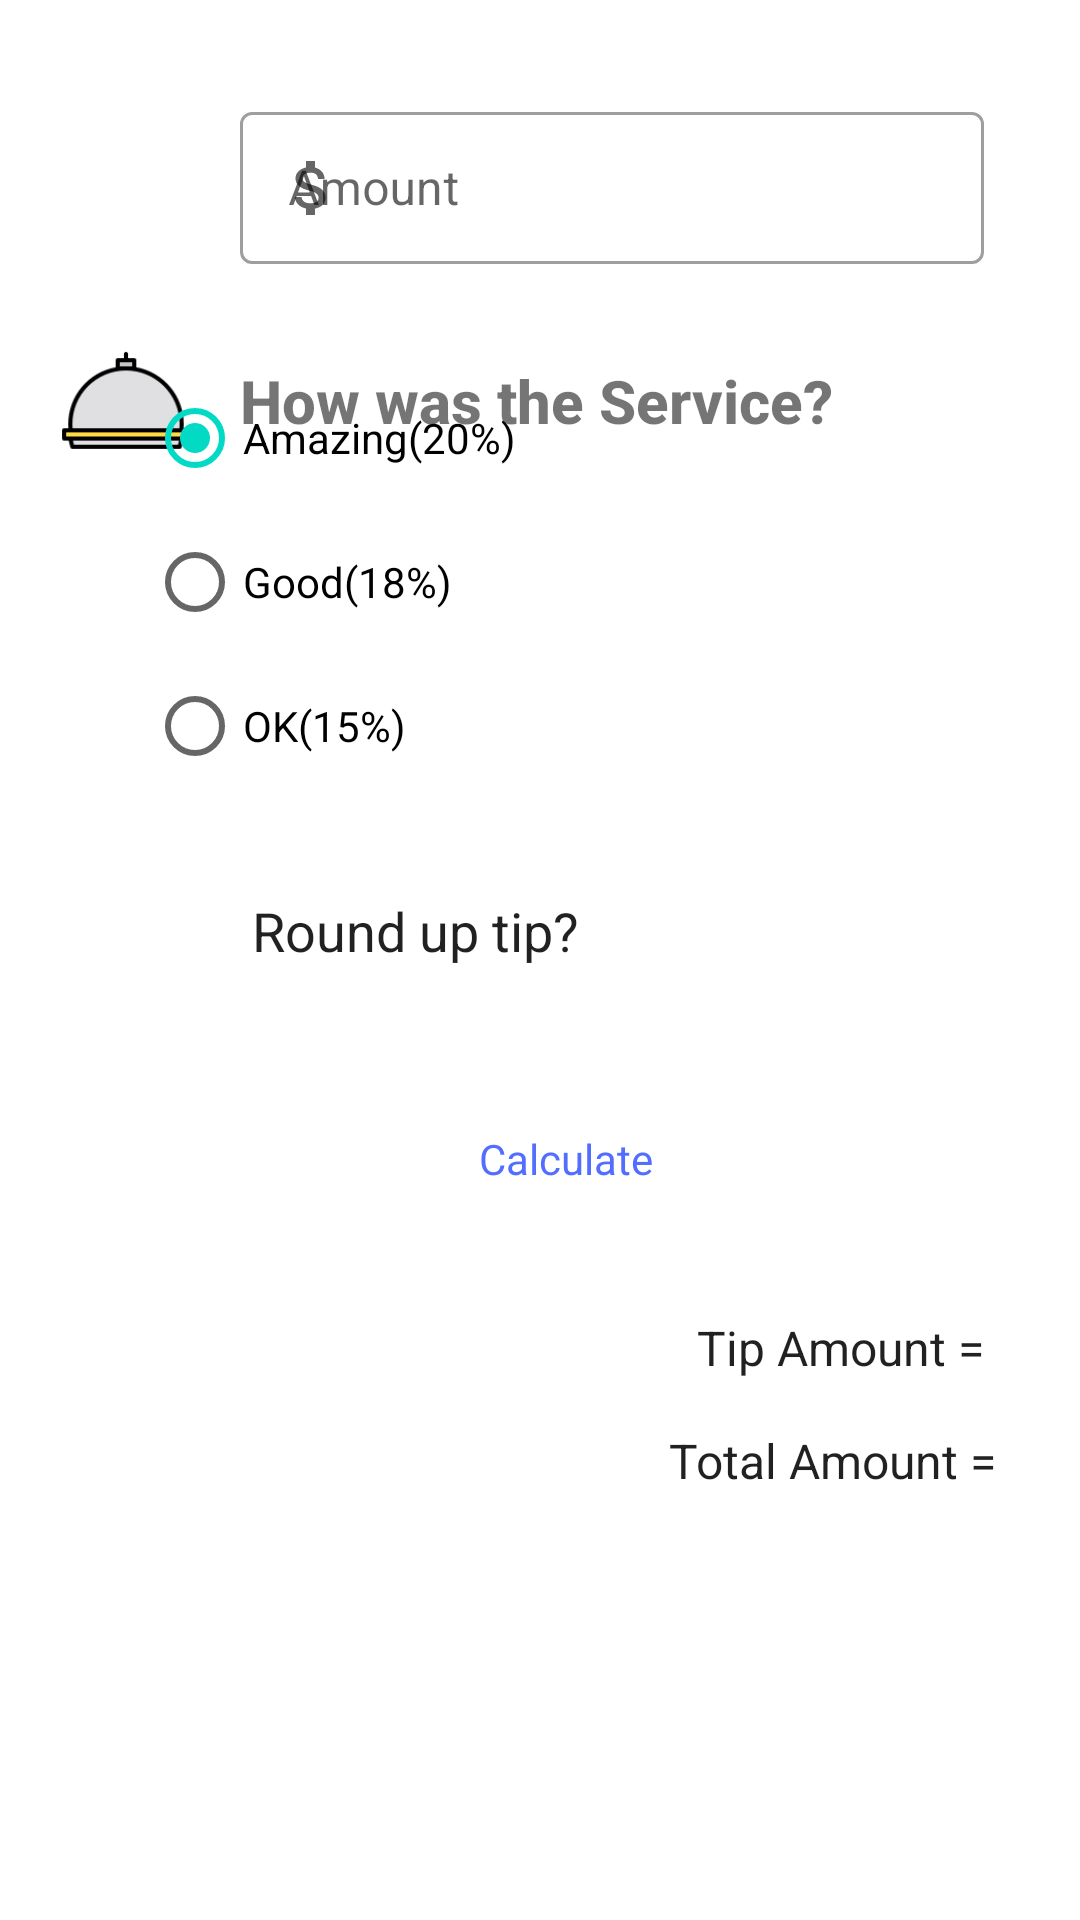

Screen size 1080px×1920px. Icon name, then its center in pixels as (x,y):
buffet: (127,410)
